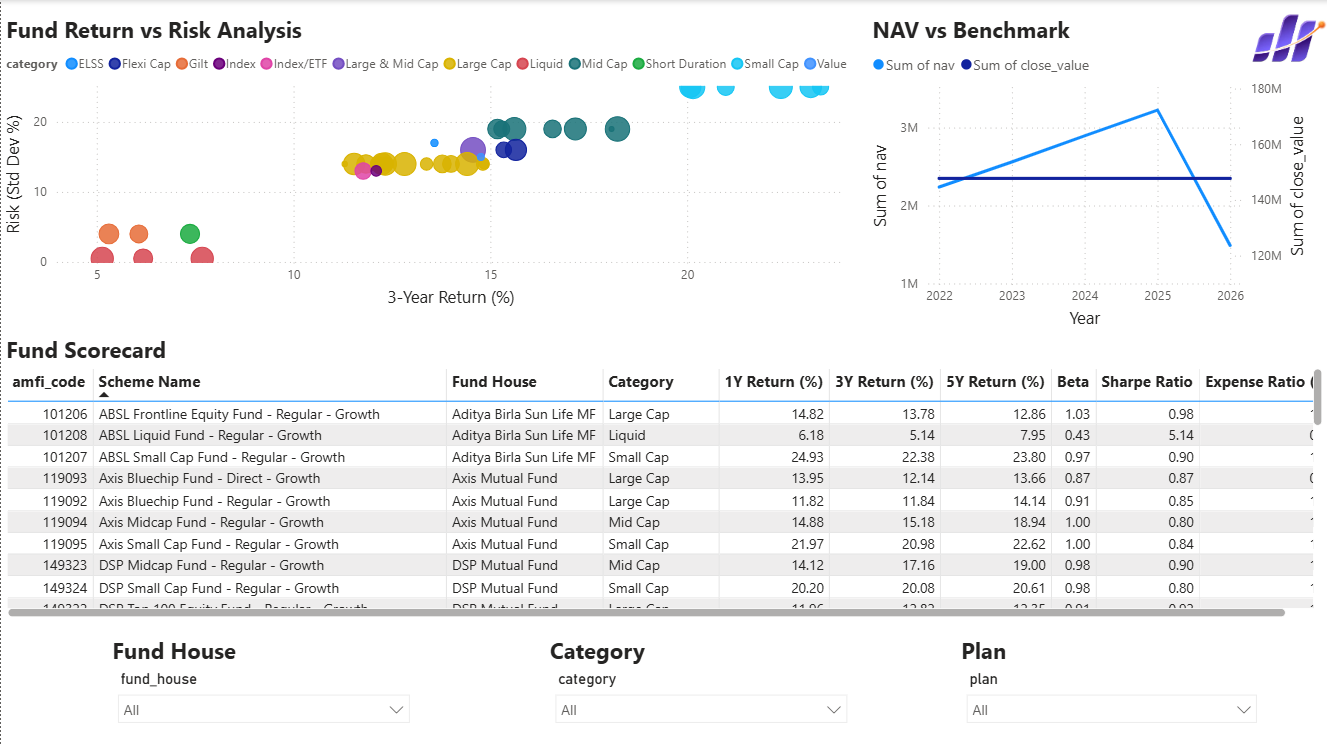

Layout of this report page (visuals, bound fields, positions):
{"tool":"powerbi","page":{"name":"Fund Performance","canvas":[1280,720],"ordinal":1},"visuals":[{"type":"scatterChart","title":"Fund Return vs Risk Analysis","fields":{"X":["Performance.return_3yr_pct"],"Size":["Sum(Performance.aum_crore)"],"Series":["Performance.category"],"Y":["Performance.std_dev_ann_pct"]},"box":[0,153.2,826.4,288.3],"z":0},{"type":"tableEx","title":"Fund Scorecard","fields":{"Values":["Performance.amfi_code","Fund Master.scheme_name","Performance.fund_house","Performance.category","Sum(Performance.return_1yr_pct)","Sum(Performance.return_3yr_pct)","Sum(Performance.return_5yr_pct)","Sum(Performance.beta)","Sum(Performance.sharpe_ratio)","Sum(Performance.expense_ratio_pct)"]},"box":[0,441.6,1280,278.7],"z":1000},{"type":"lineChart","title":"NAV vs Benchmark","fields":{"Category":["NAV History.date.Variation.Date Hierarchy.Year","NAV History.date.Variation.Date Hierarchy.Month"],"Y":["Sum(NAV History.nav)"],"Y2":["Sum(Benchmark.close_value)"]},"box":[845.7,132.7,433.1,308.8],"z":2000},{"type":"slicer","title":"Fund House","fields":{"Values":["Fund Master.fund_house"]},"box":[142.4,26.5,301.6,97.7],"z":3000},{"type":"slicer","title":"Category","fields":{"Values":["Fund Master.category"]},"box":[552.5,27,301.6,97.7],"z":4000},{"type":"slicer","title":"Plan","fields":{"Values":["Fund Master.plan"]},"box":[949.4,27,300.4,96.5],"z":5000},{"type":"image","box":[0,0,73.6,70],"z":6000}]}

Visuals, with their boxes in screenshot pixels (x1, y1, x2, y2), scaled from the page's 1280x720 canvas onto the 1327x746 screenshot:
"Fund Return vs Risk Analysis" scatterChart: bbox(0, 159, 857, 457)
"Fund Scorecard" tableEx: bbox(0, 458, 1326, 745)
"NAV vs Benchmark" lineChart: bbox(877, 137, 1326, 457)
"Fund House" slicer: bbox(148, 27, 460, 129)
"Category" slicer: bbox(573, 28, 885, 129)
"Plan" slicer: bbox(984, 28, 1296, 128)
image: bbox(0, 0, 76, 73)
